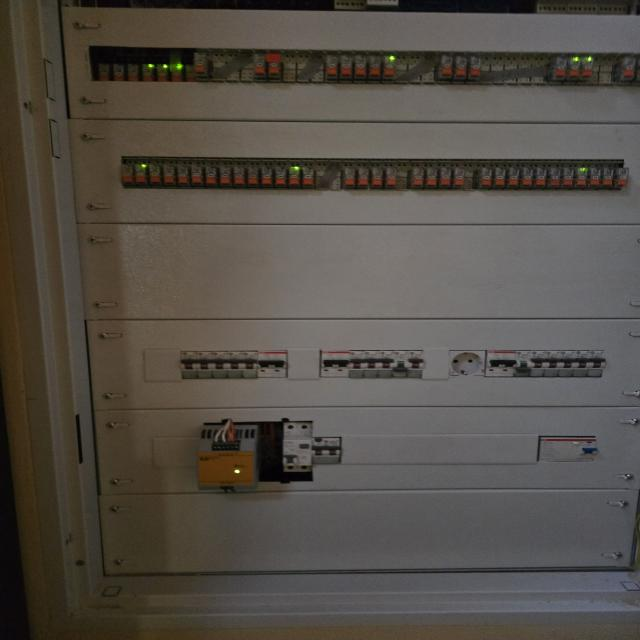FI: (539, 436, 597, 462)
FI_Sicherungskombi: (284, 440, 311, 470)
Leitungsschutzschalter: (320, 351, 337, 377), (589, 351, 605, 378), (364, 350, 379, 378), (181, 352, 197, 378), (198, 351, 213, 378), (242, 351, 257, 378), (515, 351, 531, 376), (408, 350, 422, 378), (213, 352, 228, 378), (272, 352, 287, 378), (531, 351, 546, 377), (325, 438, 340, 464), (228, 351, 242, 378), (258, 351, 272, 378), (487, 350, 501, 377), (393, 351, 407, 377), (547, 351, 561, 377), (378, 351, 392, 376), (502, 351, 516, 376), (574, 351, 588, 376), (337, 351, 350, 377), (312, 438, 325, 464), (351, 351, 364, 376), (562, 351, 574, 377)
Relais: (265, 54, 281, 76), (301, 166, 315, 188), (190, 165, 204, 186), (218, 165, 232, 186), (547, 166, 561, 186), (287, 166, 300, 187), (552, 59, 566, 78), (233, 165, 245, 187), (274, 166, 286, 188), (385, 167, 397, 189), (192, 52, 205, 72), (341, 56, 354, 76), (259, 166, 272, 186), (425, 168, 438, 188), (452, 168, 465, 188), (532, 166, 545, 186), (441, 55, 453, 76), (569, 58, 581, 79), (623, 58, 635, 79), (246, 165, 258, 186), (148, 165, 161, 184), (358, 166, 369, 188), (368, 56, 380, 76), (382, 56, 394, 76), (469, 57, 481, 77), (176, 165, 188, 185), (206, 166, 218, 186), (344, 166, 356, 186), (371, 166, 383, 186), (561, 167, 573, 187), (575, 167, 587, 187), (601, 168, 613, 188), (616, 168, 628, 188), (587, 168, 600, 186), (583, 58, 594, 79), (440, 167, 451, 188), (326, 56, 338, 75), (122, 164, 134, 183), (520, 168, 532, 187), (456, 56, 466, 78), (481, 168, 492, 188), (507, 168, 518, 188), (162, 165, 174, 183), (494, 168, 506, 186), (254, 54, 264, 75), (356, 56, 366, 77), (136, 163, 146, 184), (412, 168, 423, 187), (128, 64, 138, 82), (99, 63, 109, 80), (114, 64, 124, 80), (143, 65, 153, 81), (158, 66, 168, 82), (170, 64, 180, 80), (186, 65, 194, 81)
Schaltkasten: (42, 10, 640, 608)
